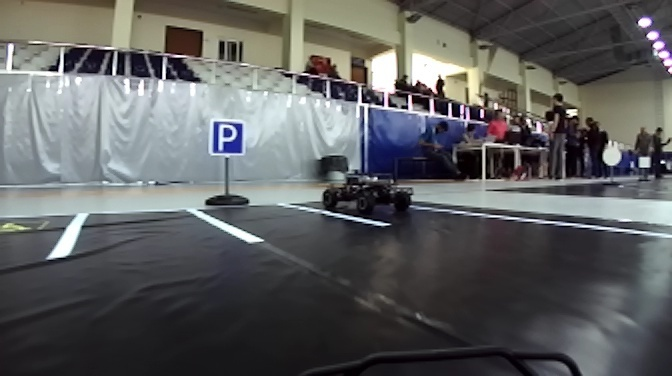park: (208, 117, 249, 159)
